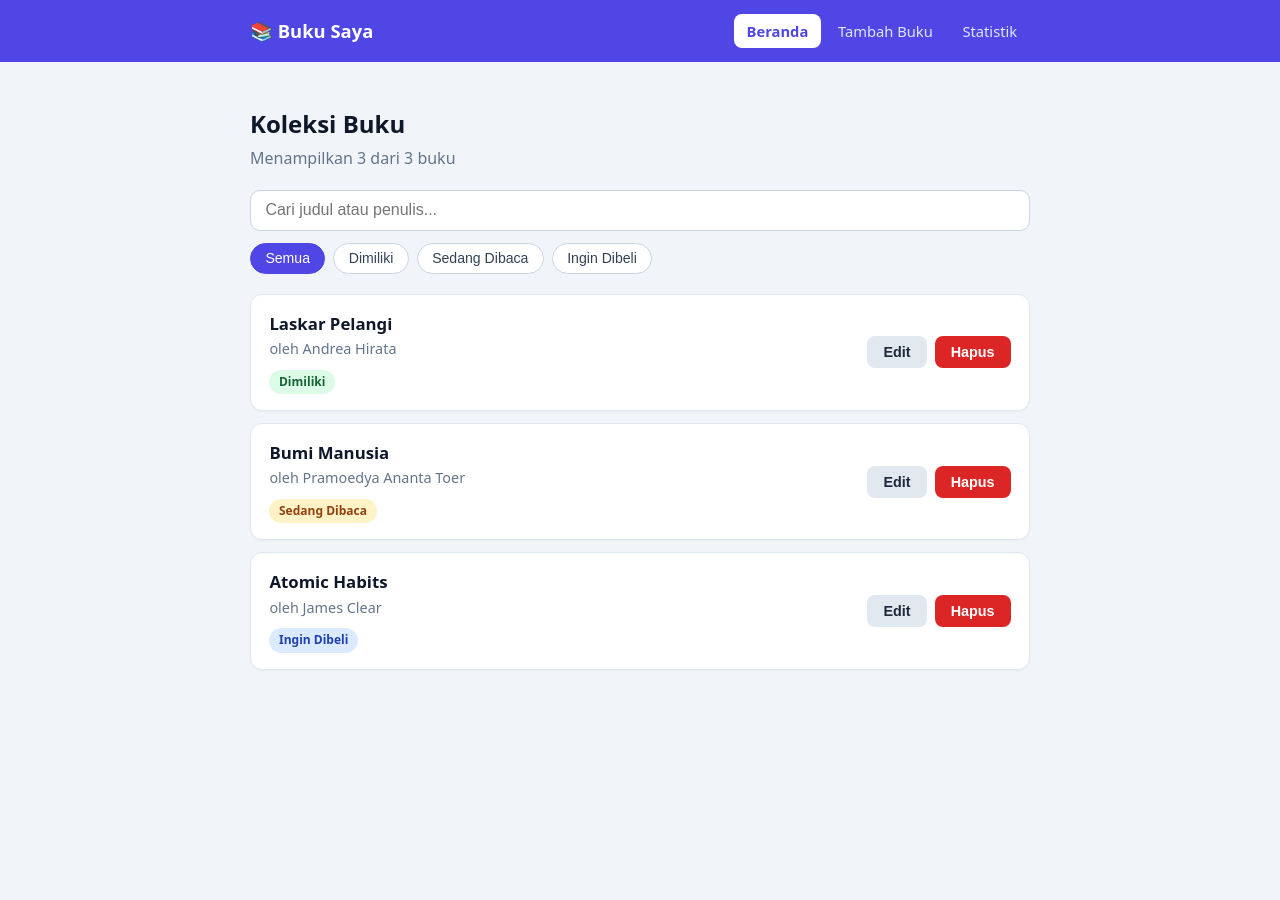
Test: Integrasi aplikasi › menambah buku lewat halaman Tambah Buku dan muncul di statistik
The width and height of the screenshot is (1280, 900).
Click the link "Tambah Buku". click: (885, 31)
box: [838,21,933,41]
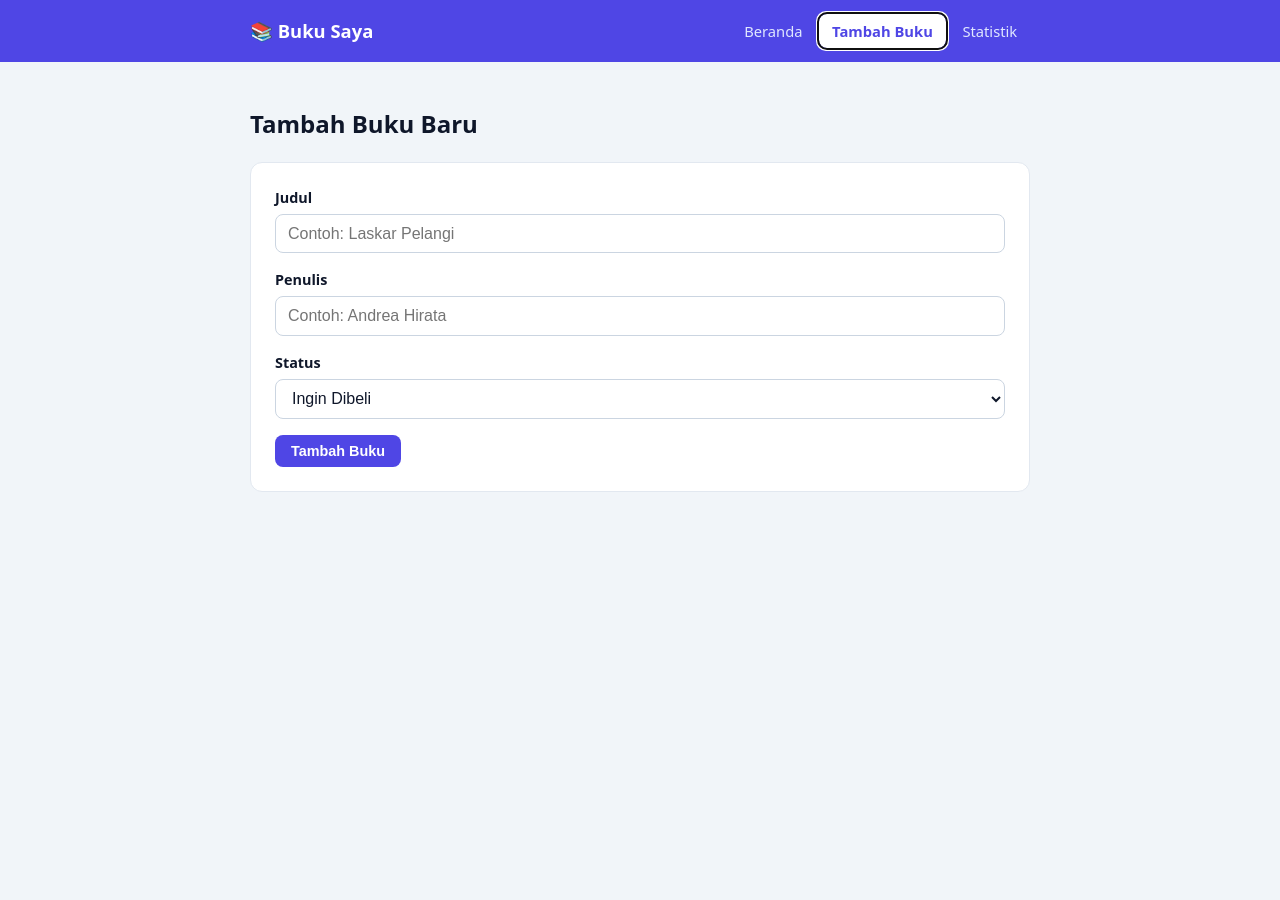
Type "Filosofi Teras" into the field labelled "Judul". click: (640, 234)
box: [275,214,1005,253]
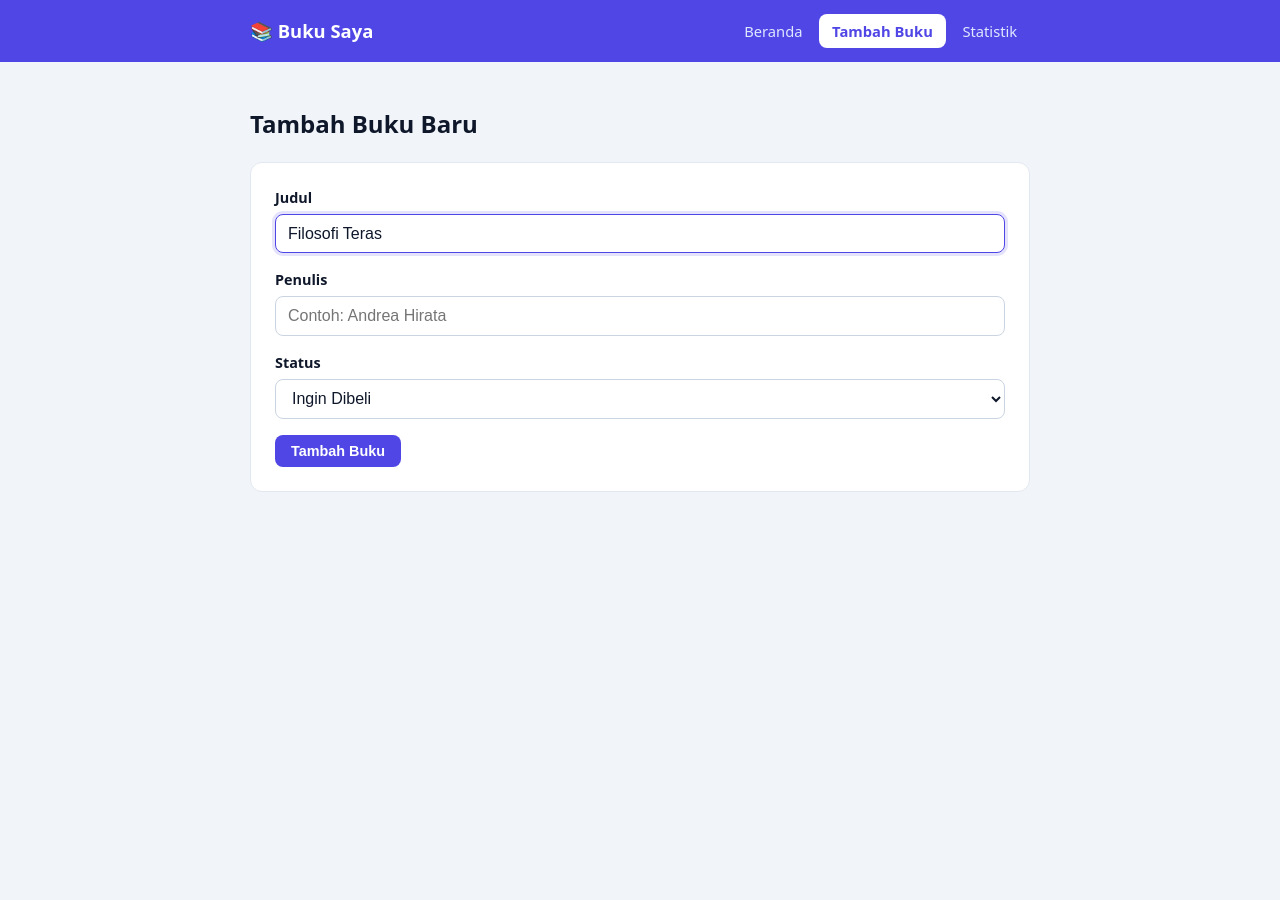
Type "Henry Manampiring" into the field labelled "Penulis". click: (640, 316)
box: [275,296,1005,336]
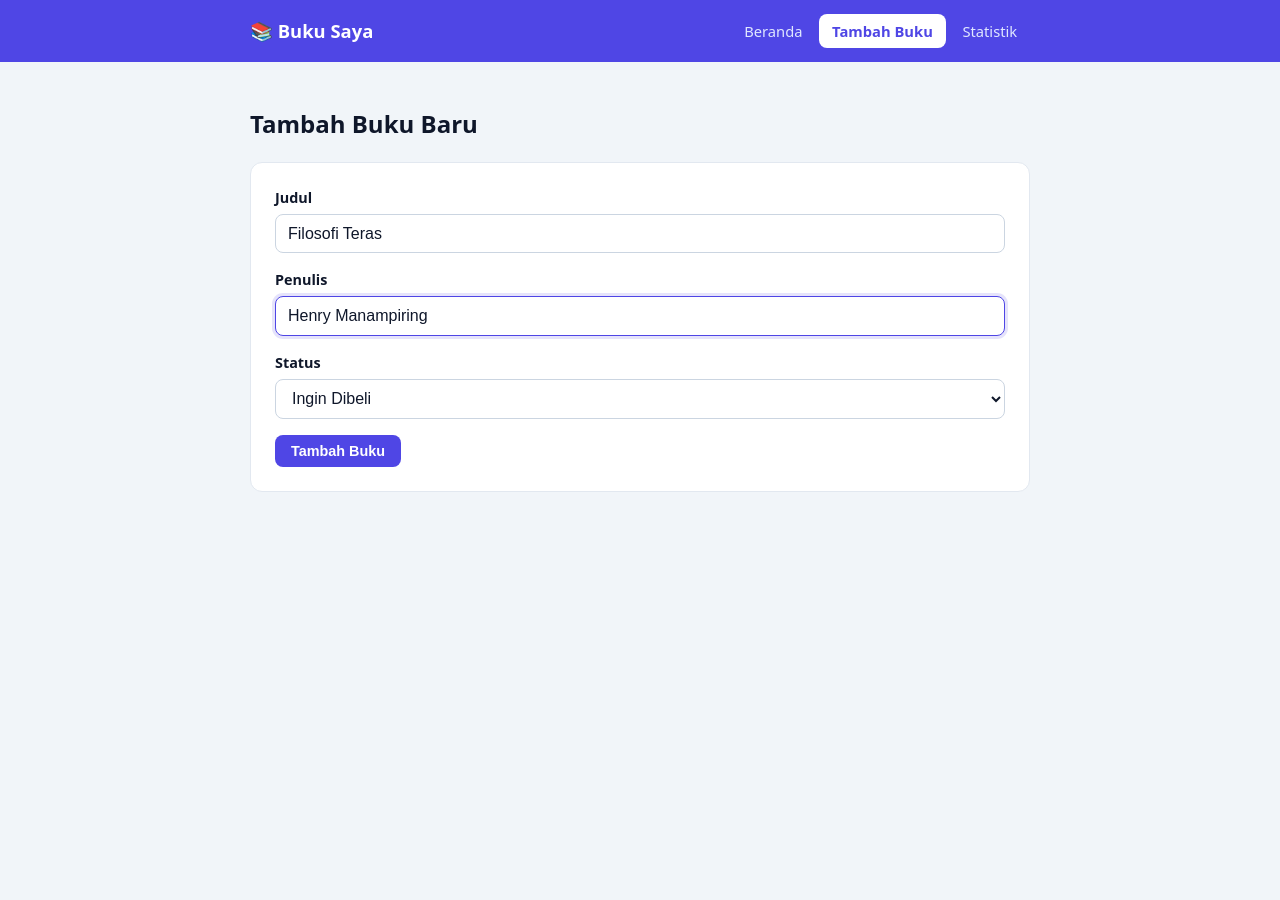
Click the button "Tambah Buku". click: (338, 451)
box: [275,435,401,467]
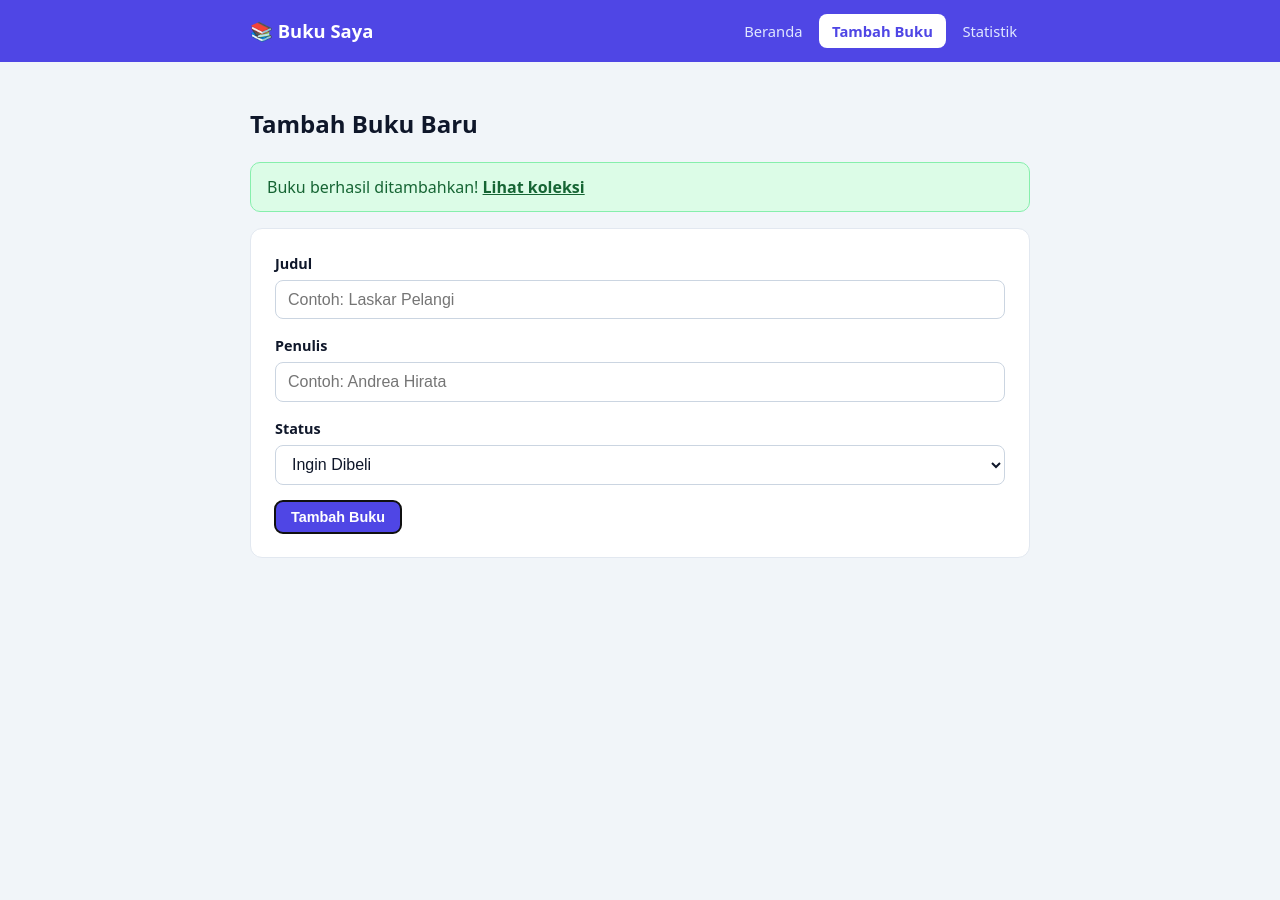
Check: the message shows "berhasil ditambahkan", box [267,176,483,198]
Click the link "Statistik". click: (990, 31)
box: [962,21,1017,41]
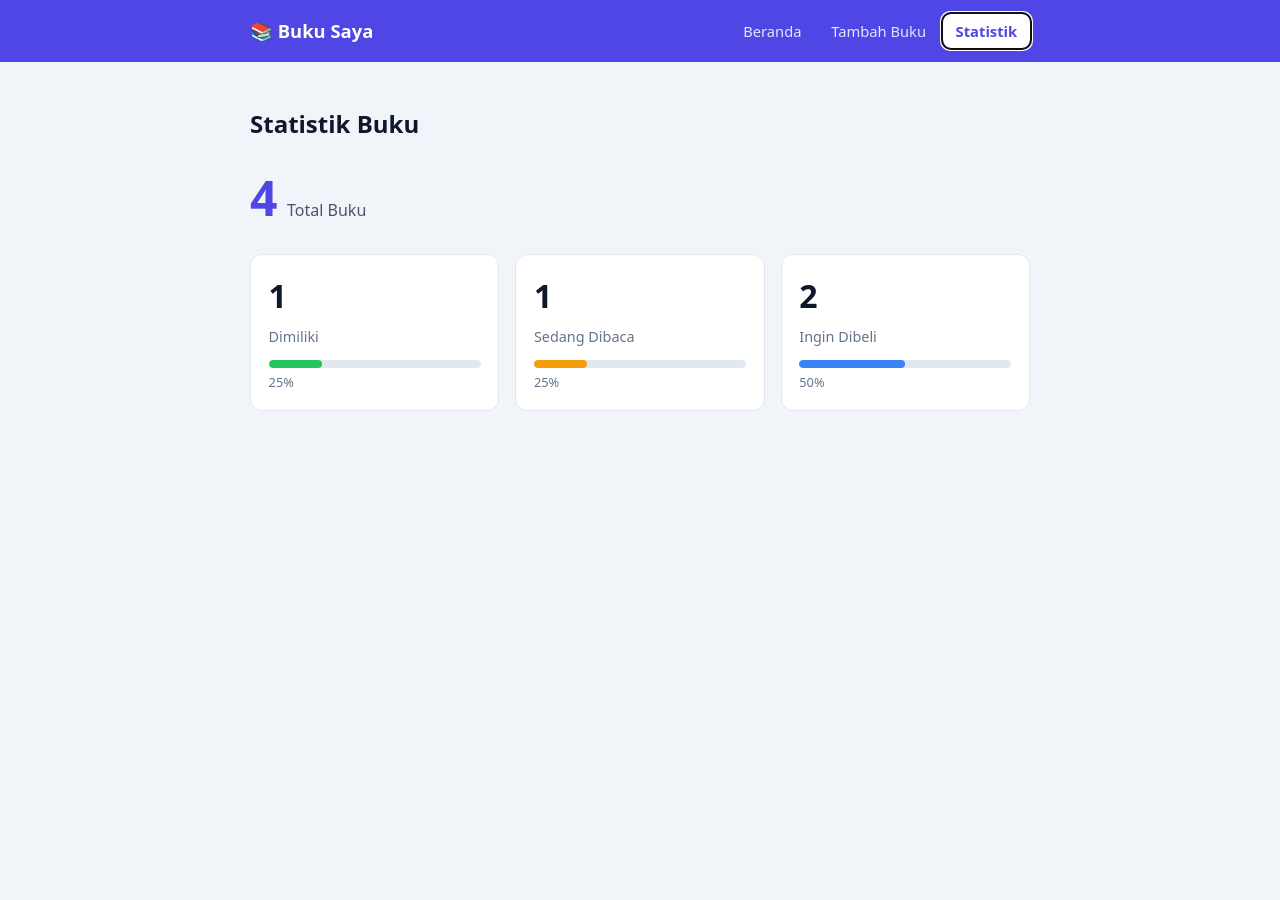
Check: the text with test id "stat-total" reads "4", box [250,165,278,230]
